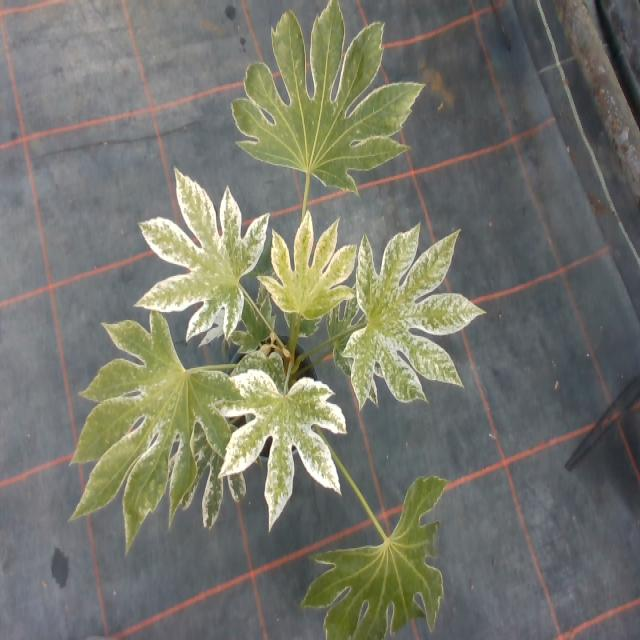Fatsia-japonica: (61, 313, 251, 536), (228, 5, 413, 194), (302, 473, 488, 640), (344, 226, 474, 404), (139, 165, 263, 329), (219, 374, 344, 512), (261, 223, 357, 314), (227, 285, 274, 350)
